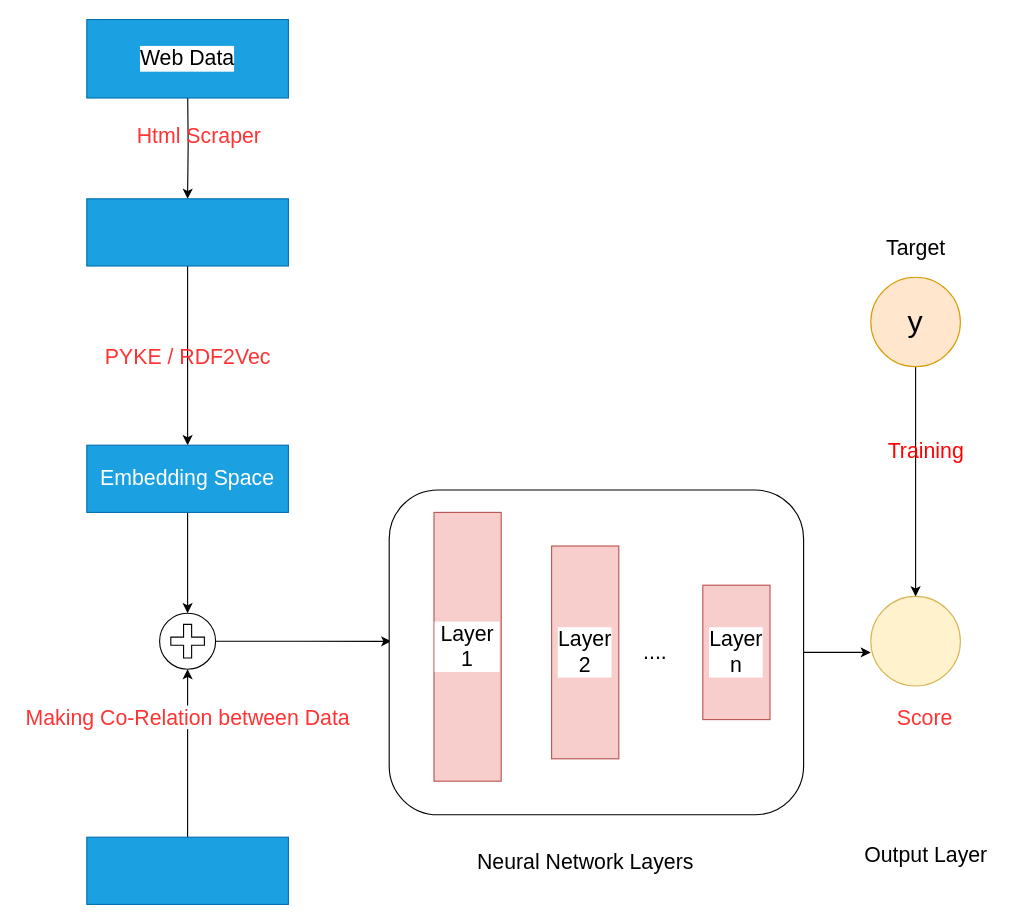
The diagram is 1017 pixels wide and 924 high, and some of its shapes have lost their labels. The shapes that lost their labels are listed below. From the top down, each one's centre as x and y in pixels, then its label:
At [187,232]: "RDF Graph".
At [915,640]: "^y".
At [187,870]: "Transaction Data".
